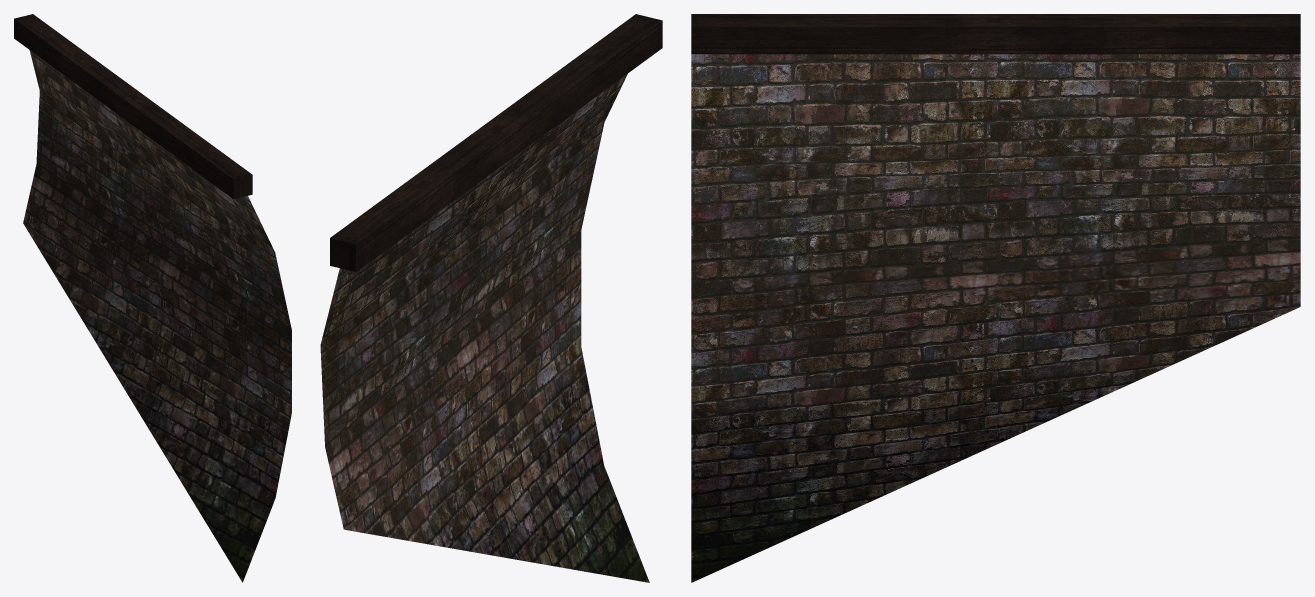
File: wall_slope01.DAE
The picture shows the model from 3 angles, left to right: view 1: azimuth 30°, elevation 25°; view 2: azimuth 150°, elevation 25°; view 3: azimuth 270°, elevation 25°; orthographic projection. The views are drawn at different scales.
Visible parts, largest first — view 1: wall_slope01, wall_detail03; view 2: wall_slope01, wall_detail03; view 3: wall_slope01, wall_detail03.
Part boxes in pixels (left/top/right/bottom): wall_slope01: left=23, top=50, right=291, bottom=582; wall_detail03: left=14, top=14, right=252, bottom=199; wall_slope01: left=320, top=73, right=649, bottom=582; wall_detail03: left=330, top=14, right=662, bottom=272; wall_slope01: left=691, top=54, right=1300, bottom=582; wall_detail03: left=691, top=14, right=1300, bottom=54.
Size of the model in its own units: 0.6133 by 4.08 by 4.
